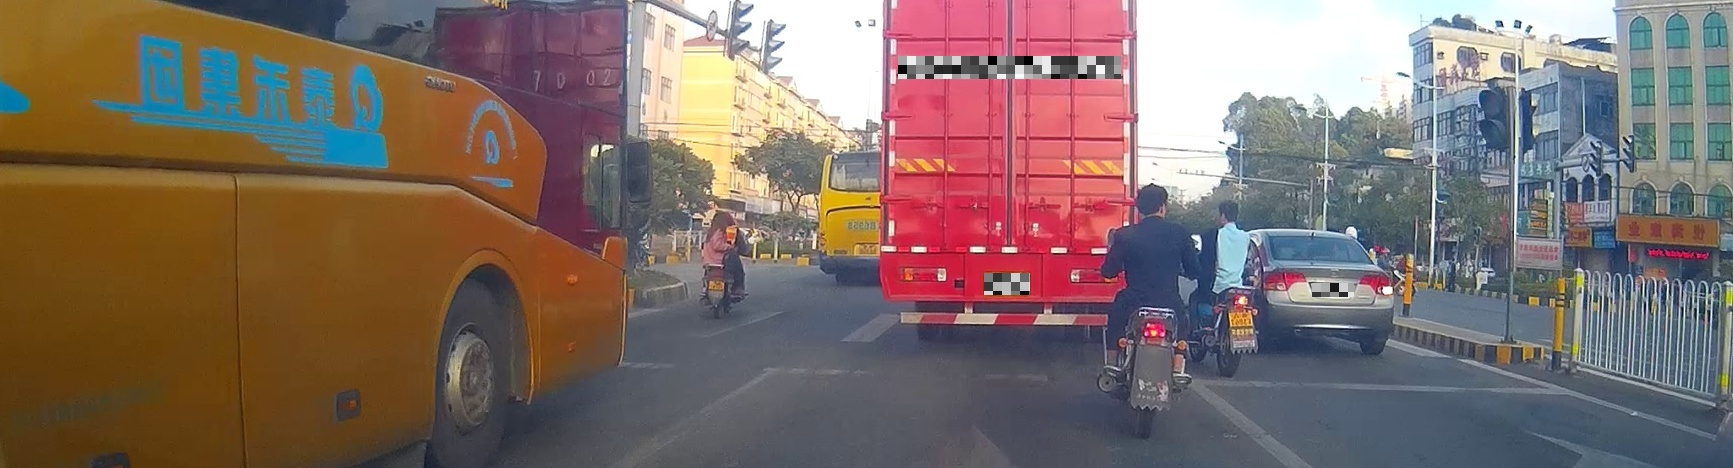L_light: (1262, 270, 1307, 291), (1359, 273, 1394, 295)
R_light: (1306, 232, 1320, 239)
day-right: (1261, 229, 1395, 355)
plate_1: (899, 56, 1121, 79)
plate_2: (984, 273, 1030, 295)
plate_3: (1312, 283, 1354, 297)
